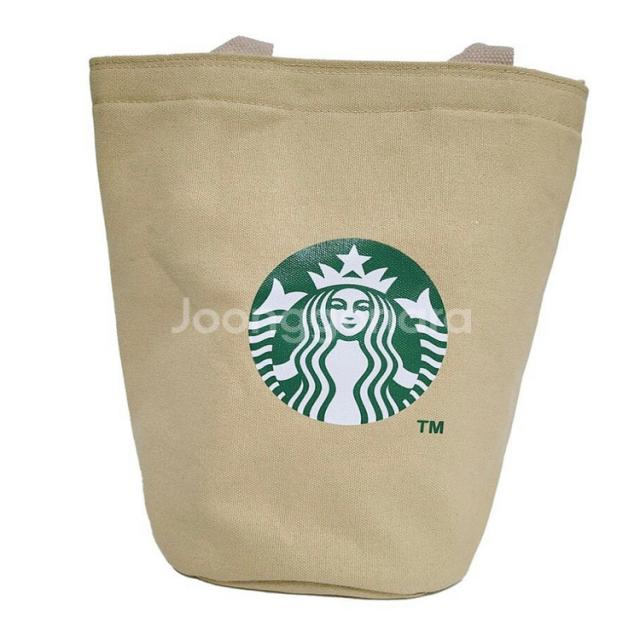ecobag: (64, 24, 581, 614)
